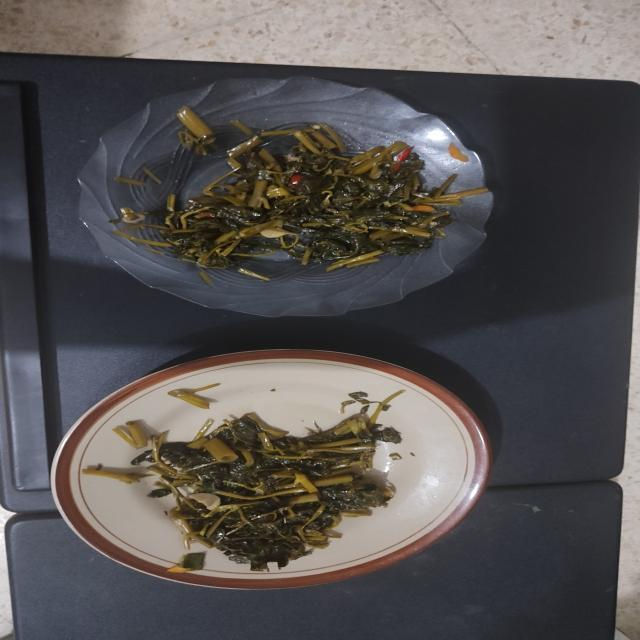tumis_kangkung: (143, 123, 450, 277), (132, 408, 401, 571)
